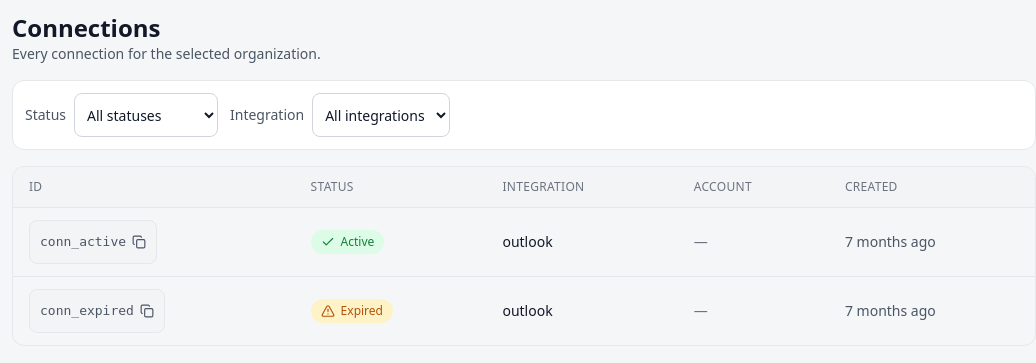
it: ConnectionsPage › filters by status with a removable chip, restoring every row when removed
Expected: the text "Active" is shown, [311,230,384,254]
Expected: the text "Expired" is shown, [311,299,393,323]
Select "ACTIVE" in the dropdown labelled "Status" at (146, 115), box [74,93,218,137]
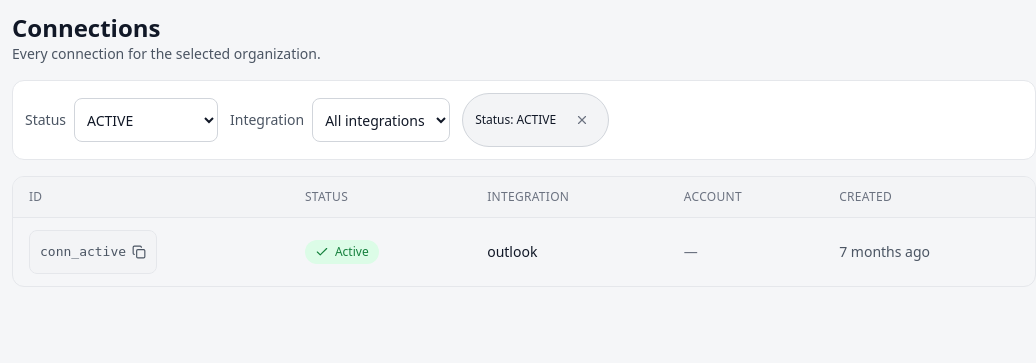
Expected: the text "Active" is shown, [305,240,379,264]
Now the button "expired" is gone
Now the text "Status: ACTIVE" is shown, box [462,93,609,147]
Click the button named "remove filter: status: active".
click(582, 120)  # box [560,98,604,142]
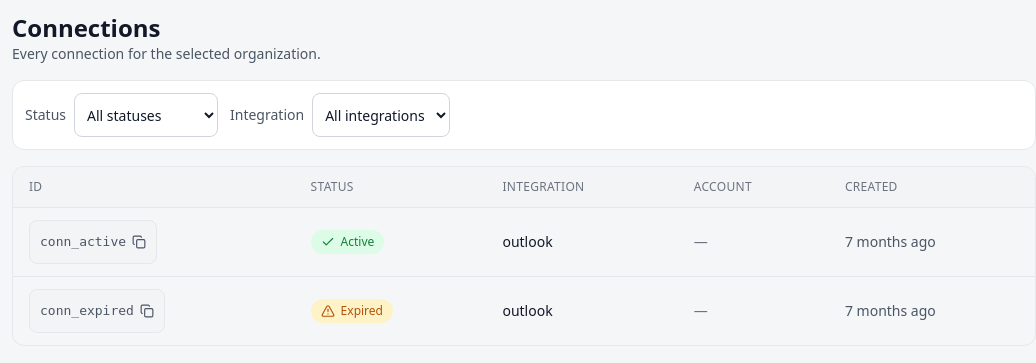
Expected: the text "Active" is shown, [311,230,384,254]
Now the text "Expired" is shown, box [311,299,393,323]
